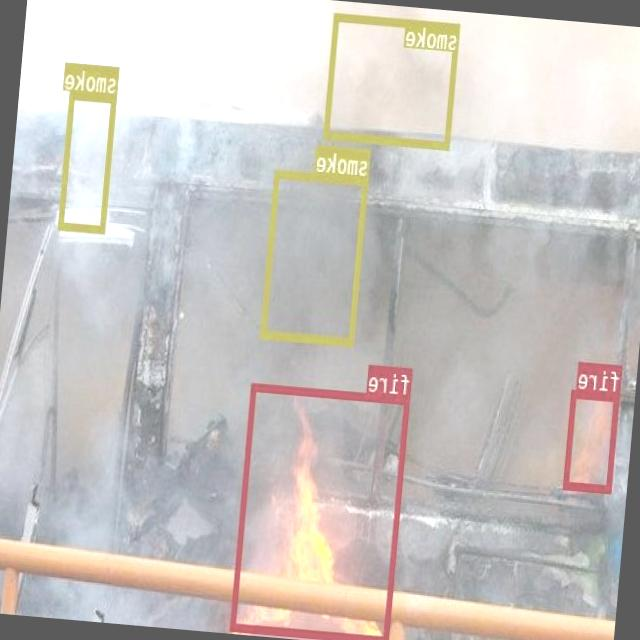fire: (231, 381, 411, 640), (564, 387, 621, 491)
smoke: (261, 168, 369, 346), (324, 12, 461, 149), (59, 90, 118, 232)
